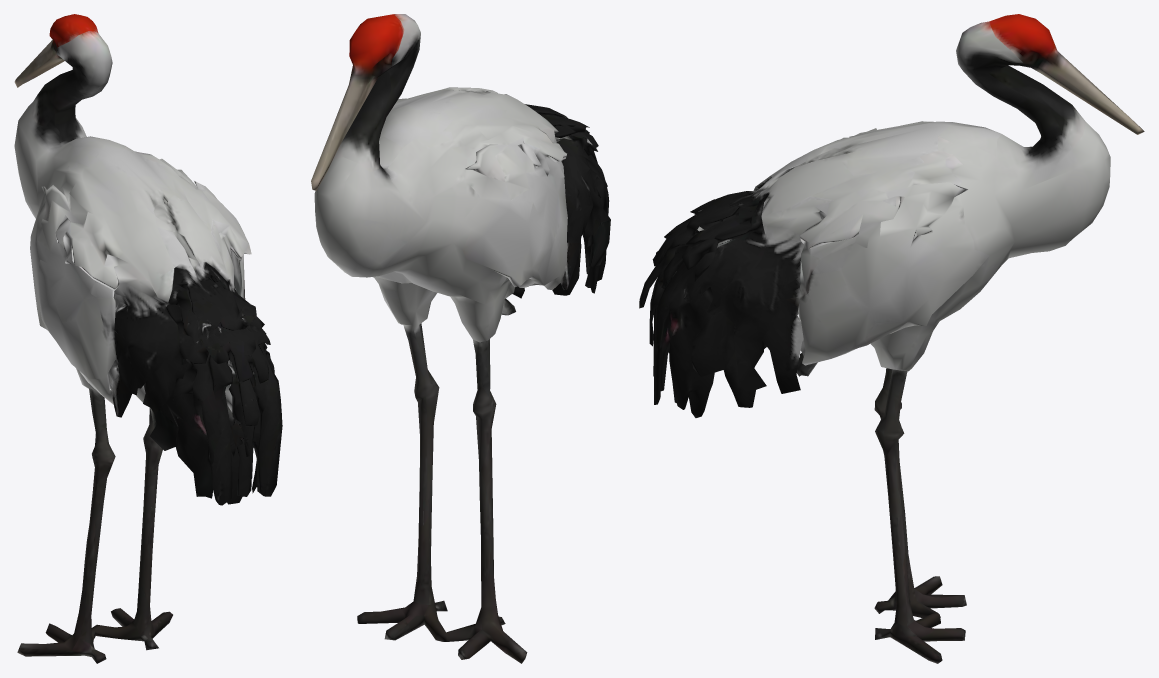
File: xianhe.glb
The picture shows the model from 3 angles, left to right: view 1: azimuth 30°, elevation 25°; view 2: azimuth 150°, elevation 25°; view 3: azimuth 270°, elevation 25°; orthographic projection. The views are drawn at different scales.
Parts seen in each view (by area): view 1: tripo_node_ccf87774-b1a8-4871-bf79-21497e848b05; view 2: tripo_node_ccf87774-b1a8-4871-bf79-21497e848b05; view 3: tripo_node_ccf87774-b1a8-4871-bf79-21497e848b05.
Part boxes in pixels (left/top/right/bottom): tripo_node_ccf87774-b1a8-4871-bf79-21497e848b05: left=14, top=14, right=282, bottom=663; tripo_node_ccf87774-b1a8-4871-bf79-21497e848b05: left=311, top=14, right=610, bottom=663; tripo_node_ccf87774-b1a8-4871-bf79-21497e848b05: left=639, top=14, right=1144, bottom=663.
Bounding box in the file's own units: 0.3251 × 1 × 0.7428.
1 material, 1 textured.
